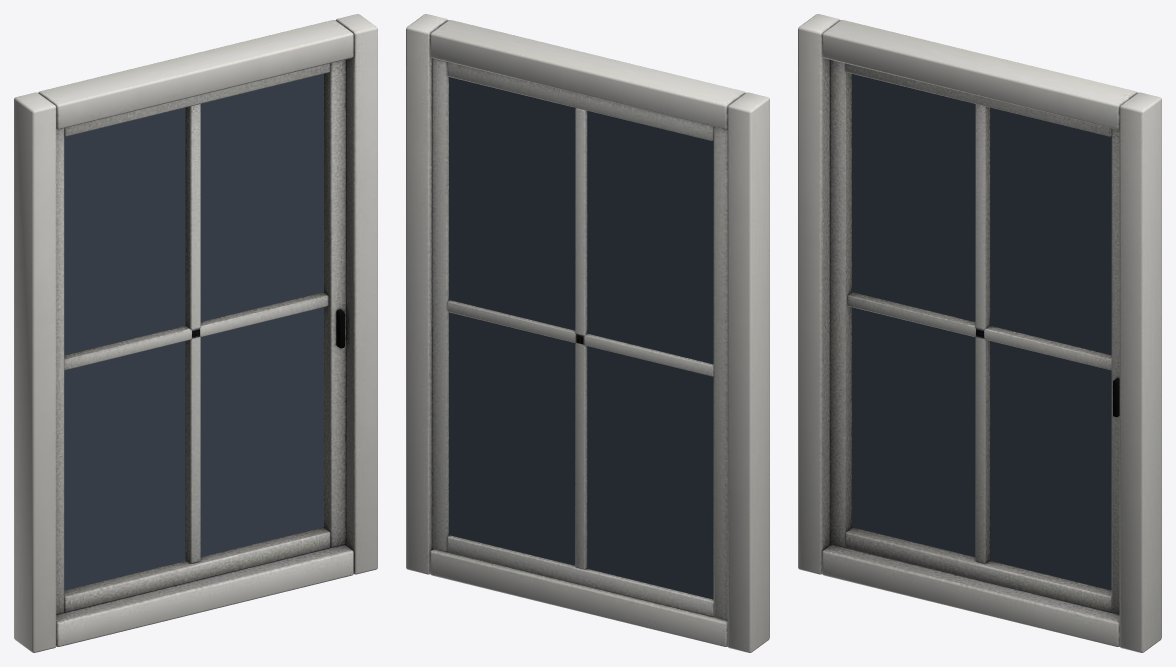
Rendered from window_22.glb.
3 renders of one model, left to right at view 1: azimuth 30°, elevation 25°; view 2: azimuth 150°, elevation 25°; view 3: azimuth 330°, elevation 25°, orthographic.
Parts seen in each view (by area): view 1: glass, frame_b; view 2: glass, frame_b; view 3: glass, frame_b.
Part boxes in pixels (x1=…): glass: x1=64, y1=74, x2=323, y2=590; frame_b: x1=14, y1=14, x2=377, y2=652; glass: x1=449, y1=77, x2=713, y2=599; frame_b: x1=406, y1=14, x2=769, y2=652; glass: x1=852, y1=74, x2=1111, y2=590; frame_b: x1=798, y1=14, x2=1161, y2=652.
Bounding box in the file's own units: 1 × 1.5 × 0.1.
Materials: 2 (1 with a texture image).
